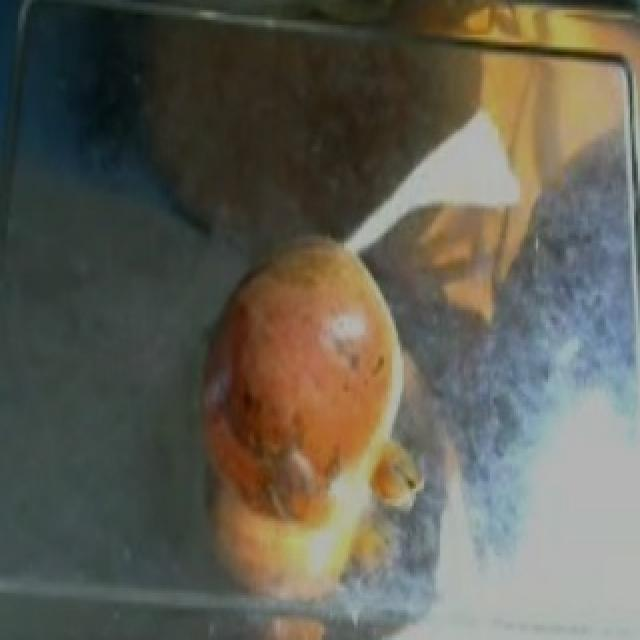fruit: (170, 211, 418, 449)
